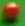red: (0, 0, 25, 26)
